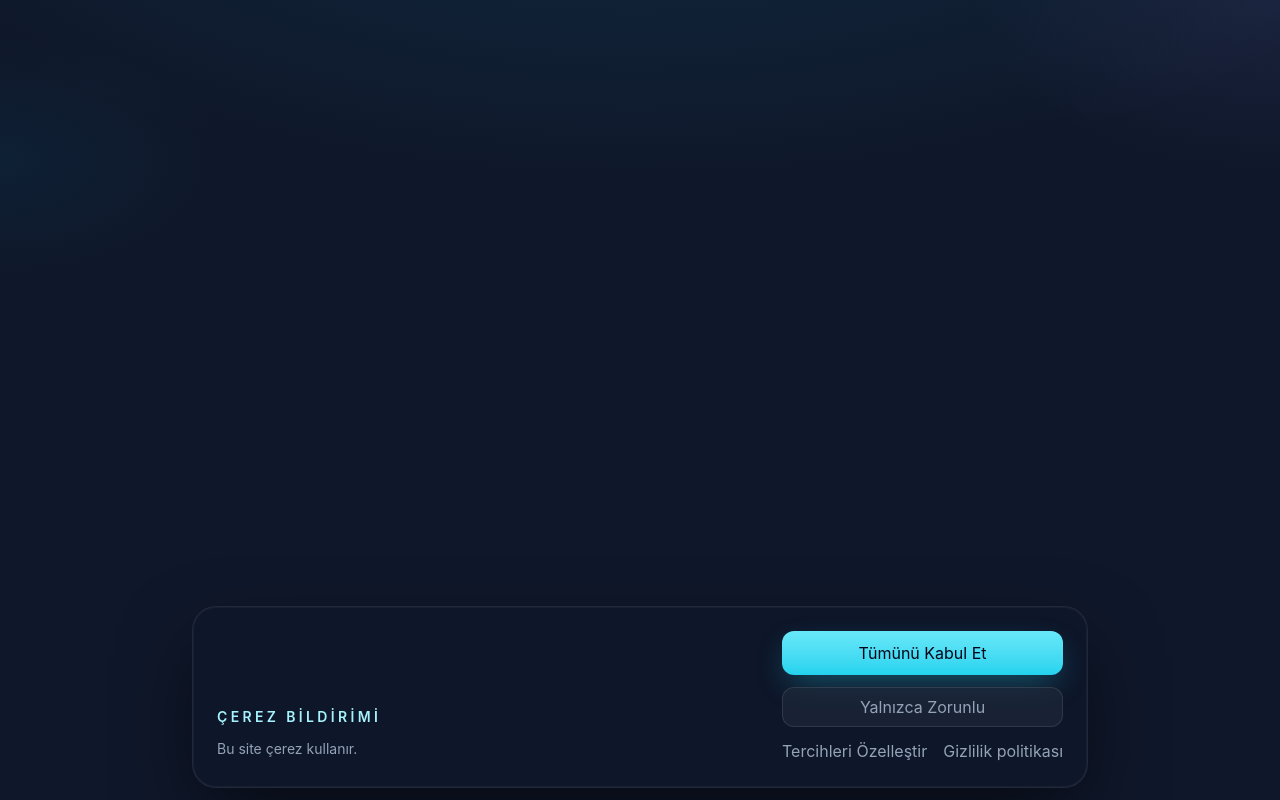
Test: CookieNotice — özelleştirme ekranı › "Tercihleri Özelleştir" tıklanınca özelleştirme görünür
Click the button "Tercihleri Özelleştir". click: (855, 751)
box: [782,739,927,763]
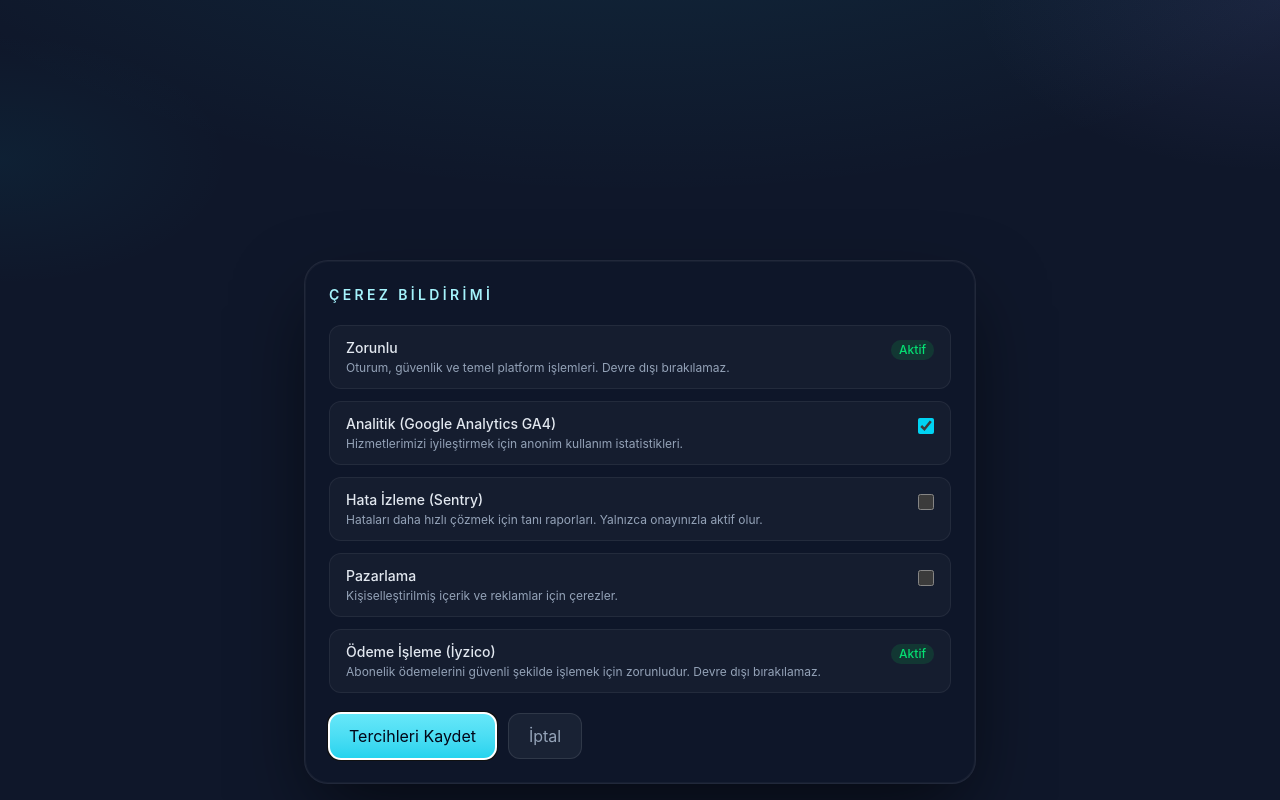
Result: the checkbox labelled "Analitik" is shown at [918,418,934,434]
Result: the checkbox labelled "Pazarlama" is shown at [918,570,934,586]
